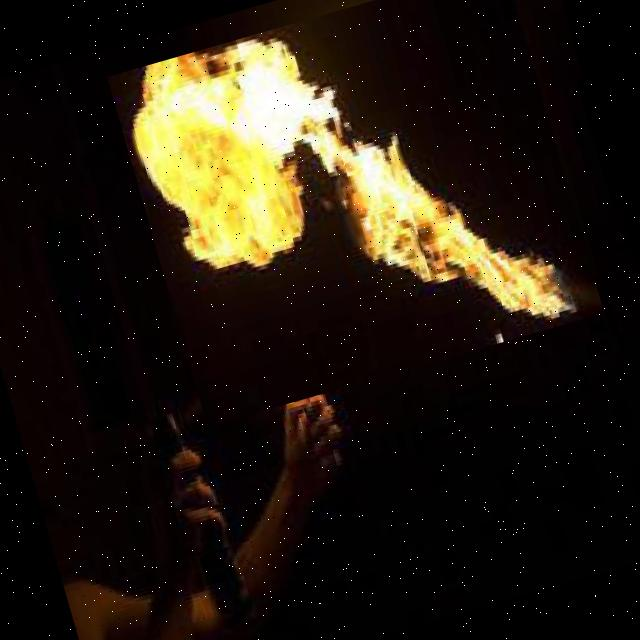fire: (107, 0, 604, 426)
